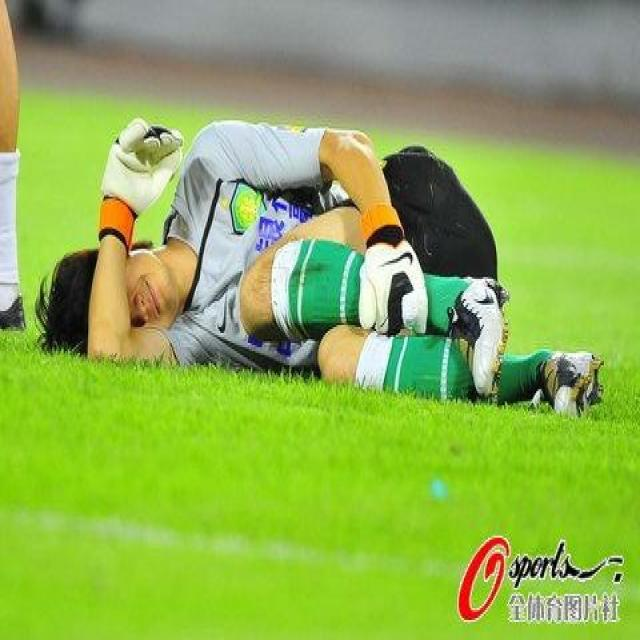fall: (58, 110, 566, 406)
